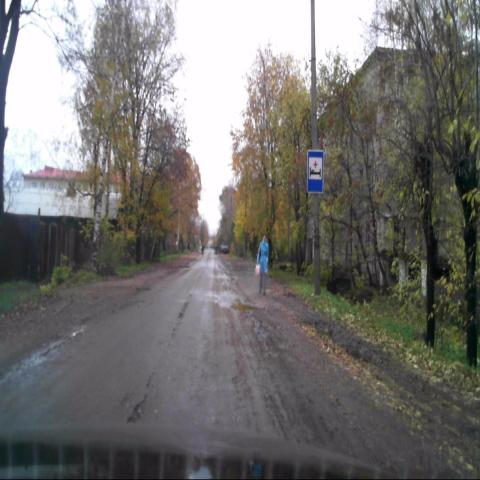7_2: (308, 150, 324, 192)
